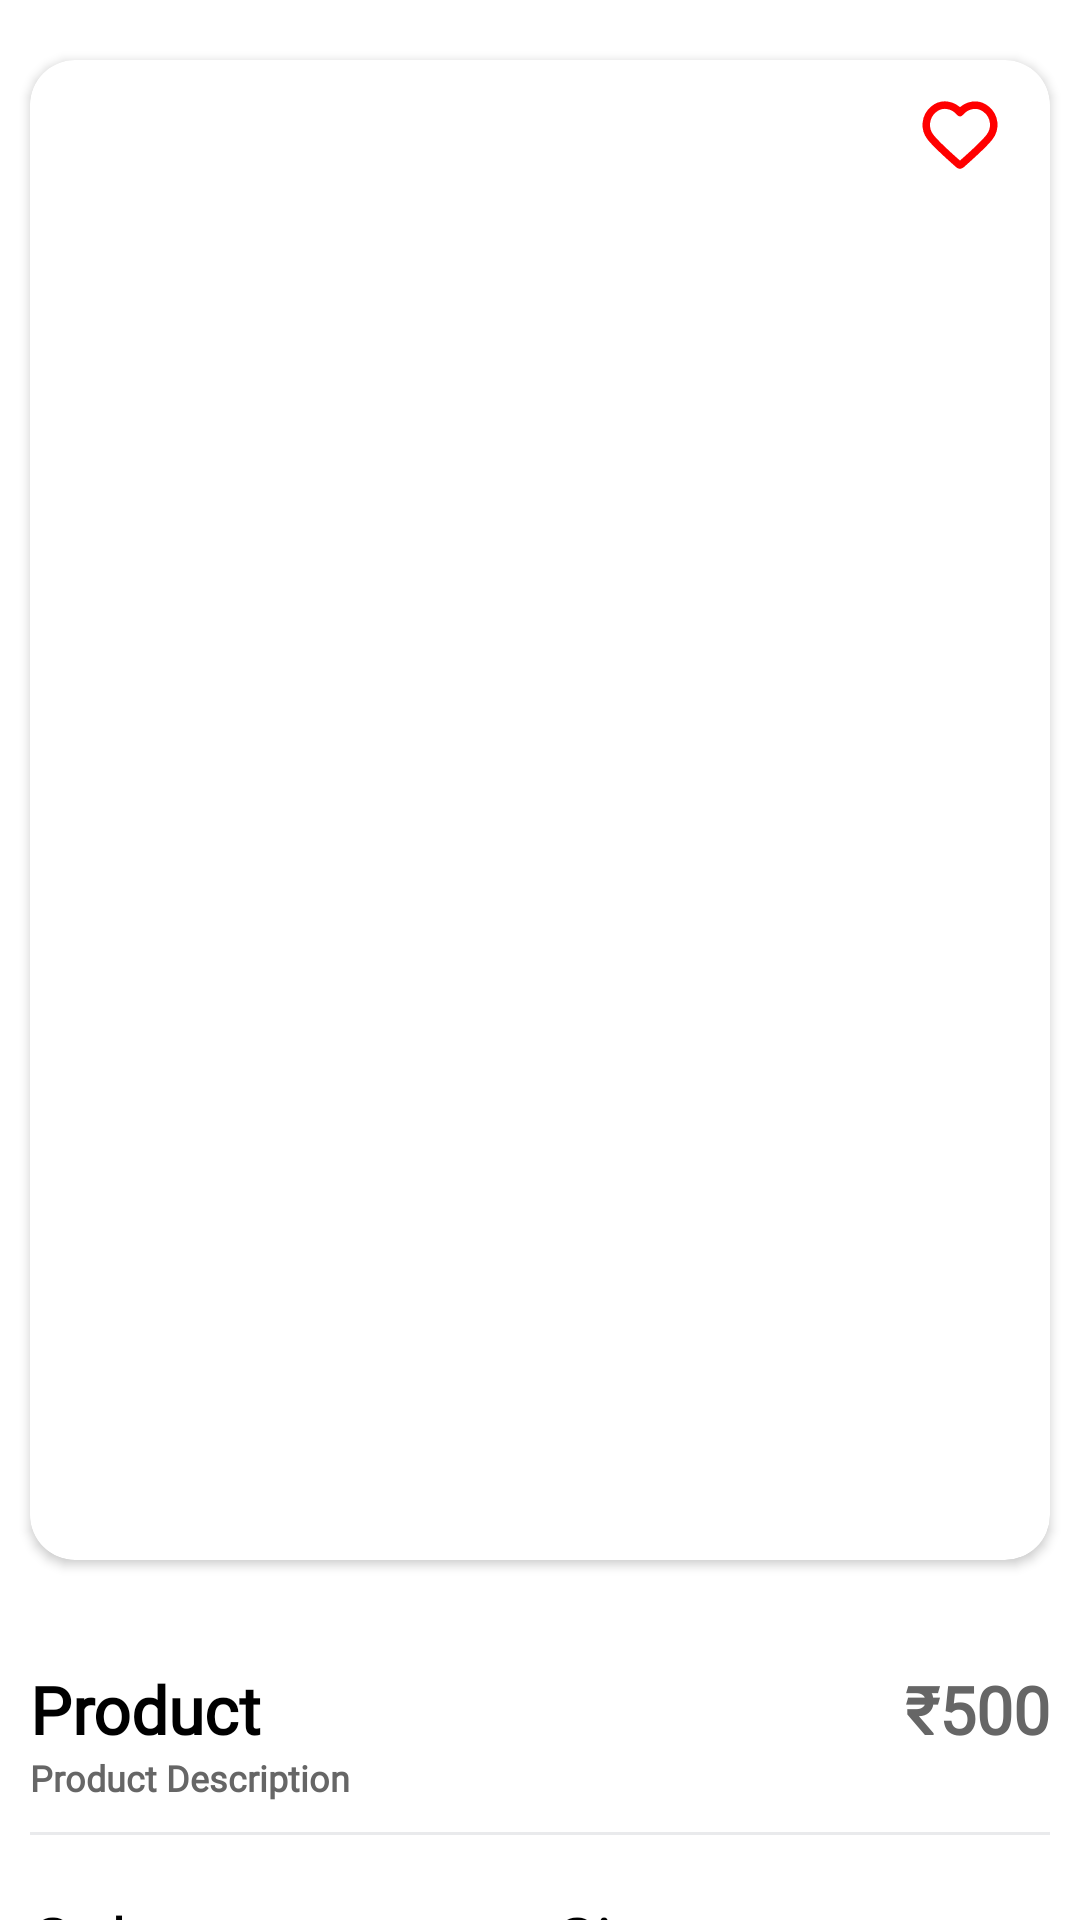

Icons on this 1080px×1920px Android screen, each with its box as {"x1": x1, "y1": y1, "x2": x2, "y2": y2}:
heart: {"x1": 922, "y1": 101, "x2": 998, "y2": 169}
